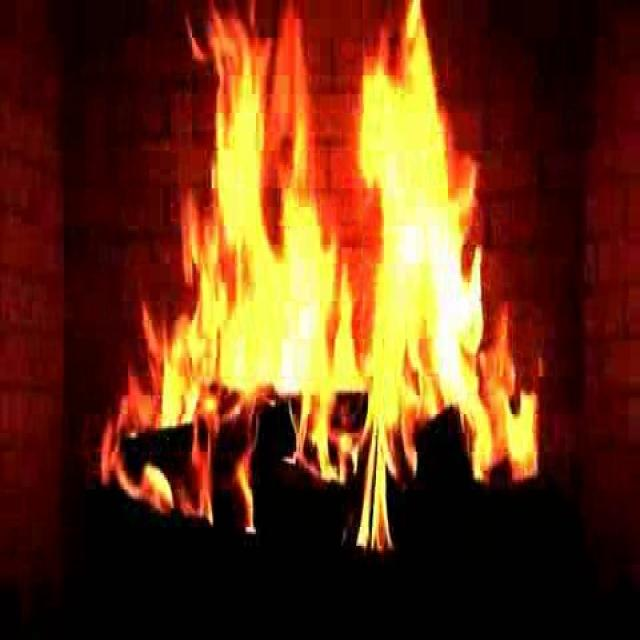fire: (145, 34, 502, 515)
